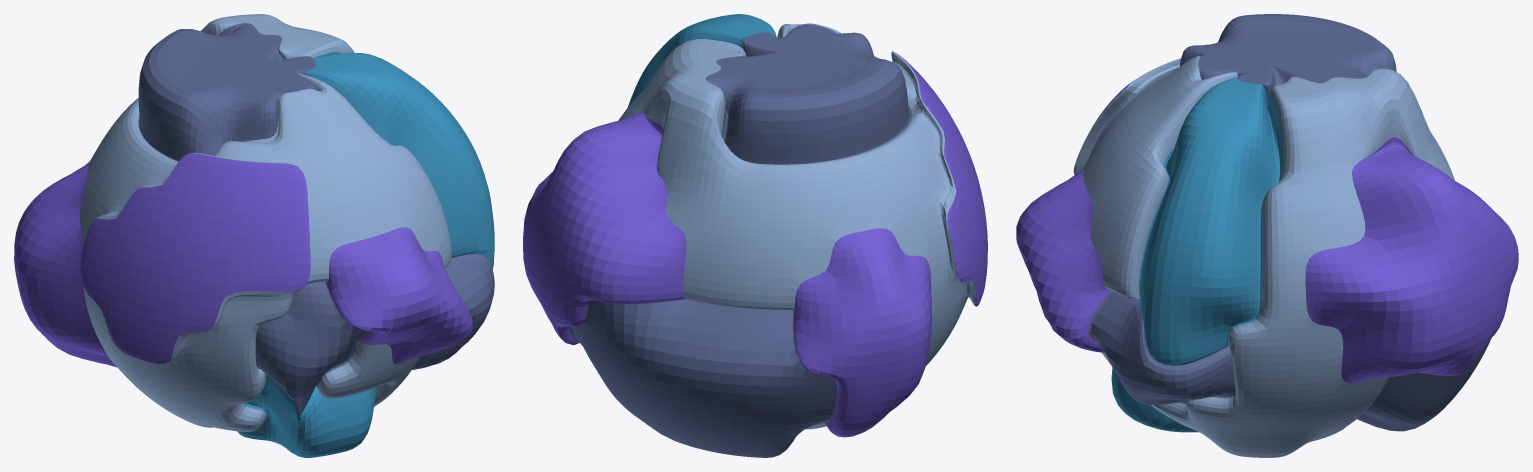
The model's file is planetagelato.fbx.
3 views of the same model, side by side, from view 1: azimuth 30°, elevation 25°; view 2: azimuth 150°, elevation 25°; view 3: azimuth 270°, elevation 25° (orthographic).
Visible parts, largest first — view 1: Sphere; view 2: Sphere; view 3: Sphere.
Part boxes in pixels (x1,y1,x2,y2): Sphere: [14, 14, 494, 457]; Sphere: [523, 14, 987, 457]; Sphere: [1016, 14, 1518, 457].
Bounding box in the file's own units: 239 × 212 × 271.
